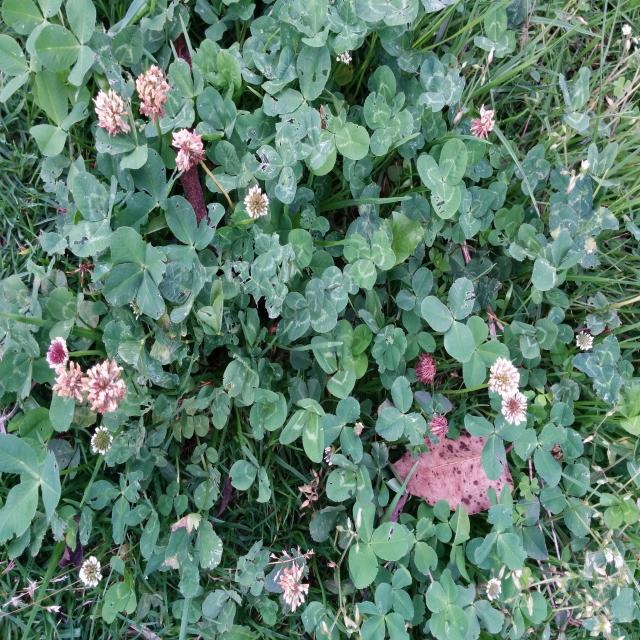Four Leaf Clover: (102, 226, 167, 320), (514, 144, 551, 195)
